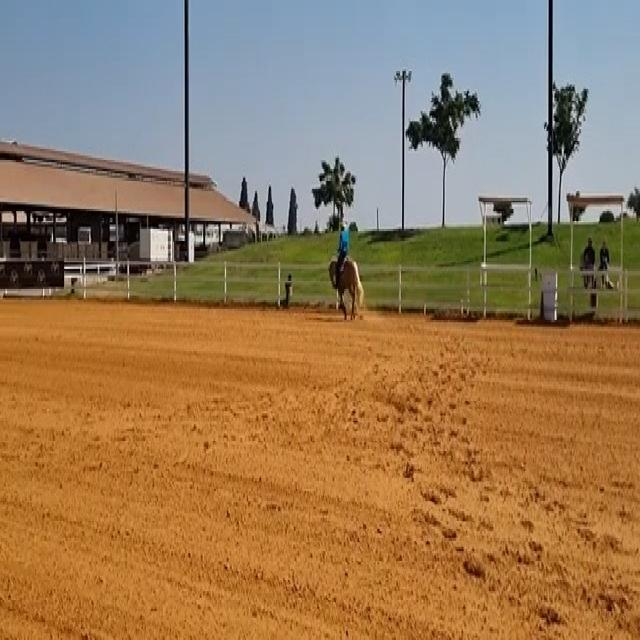horse: (326, 249, 365, 320)
